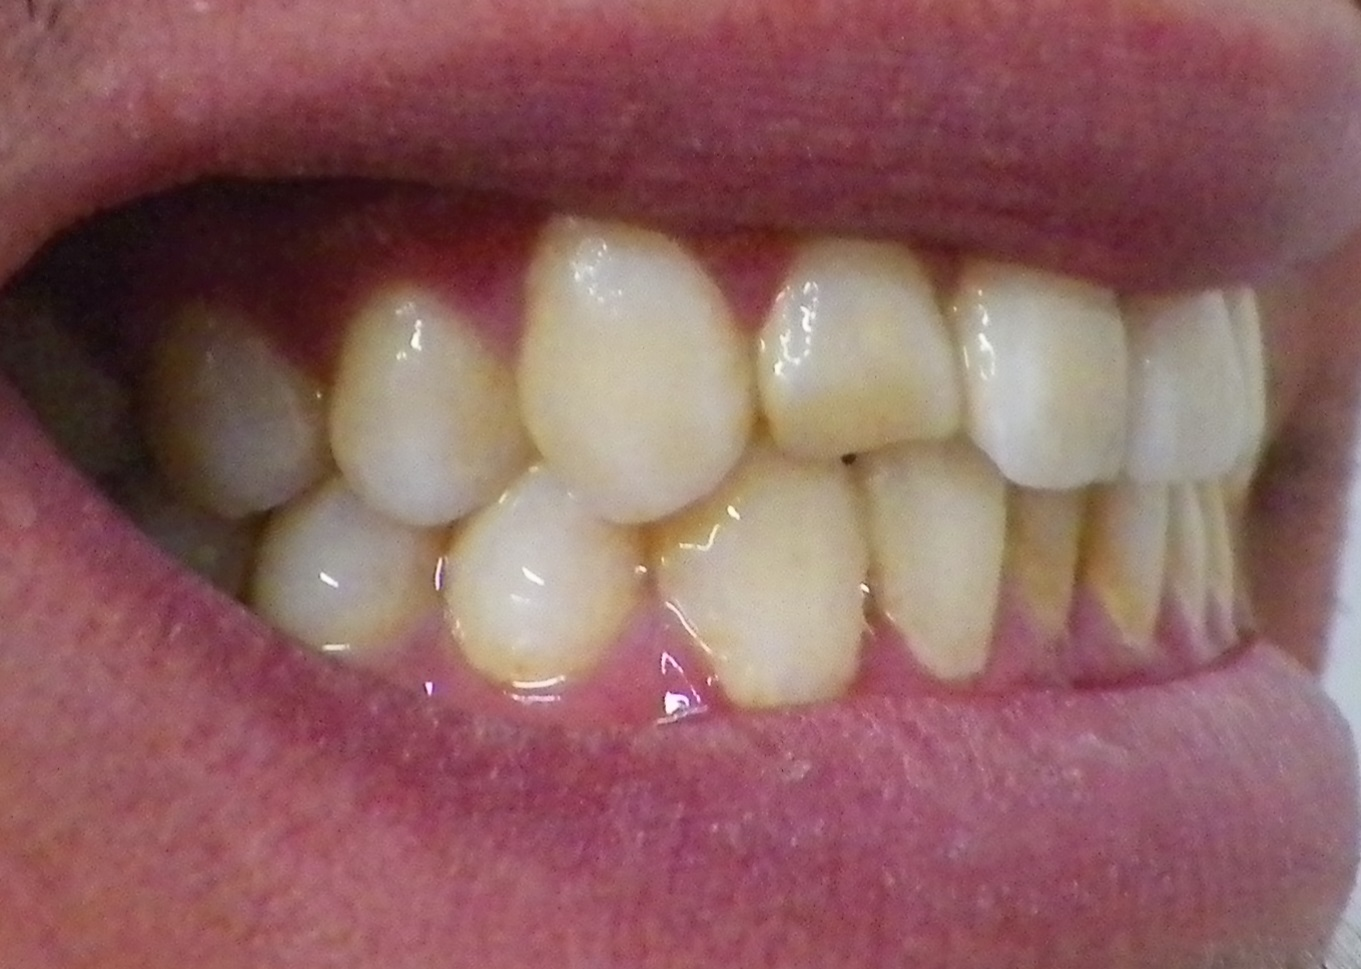boca: (38, 235, 1292, 682)
